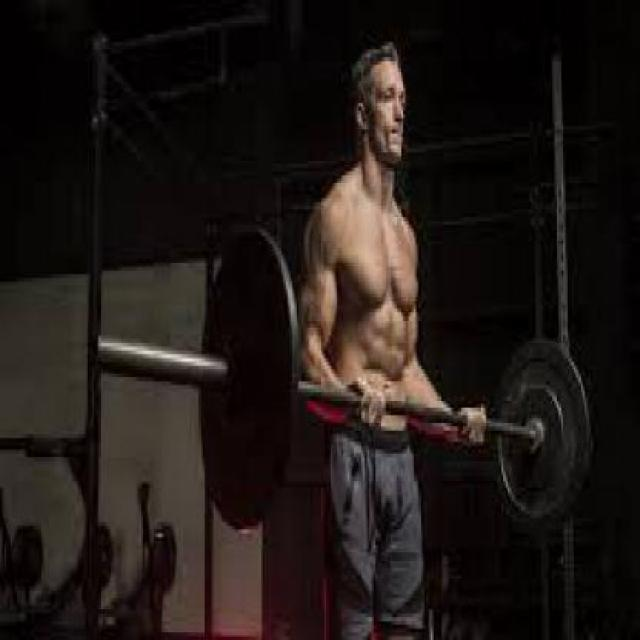barbell: (86, 223, 309, 540)
